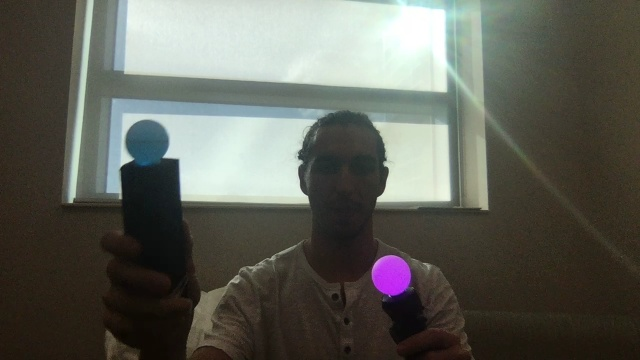wand: (126, 120, 170, 161), (373, 256, 411, 294)
